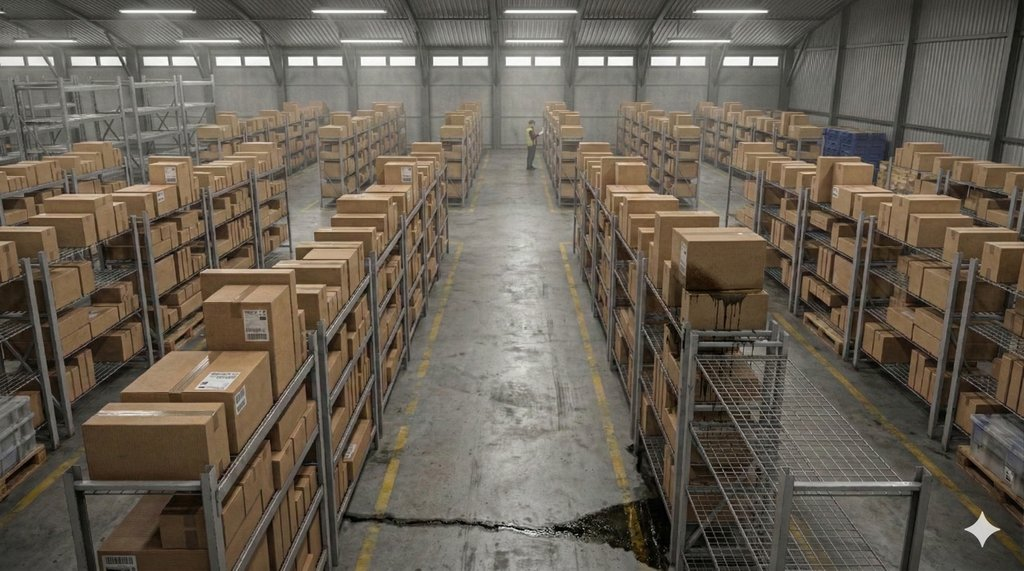empty_shelf: (675, 332, 898, 571), (15, 55, 222, 133), (971, 272, 1021, 351), (87, 244, 152, 285), (869, 230, 911, 286), (89, 337, 131, 380), (965, 333, 996, 391), (873, 278, 890, 311)
person: (519, 117, 545, 172)
safety_vest: (525, 129, 536, 151)
spill: (340, 472, 669, 567)
